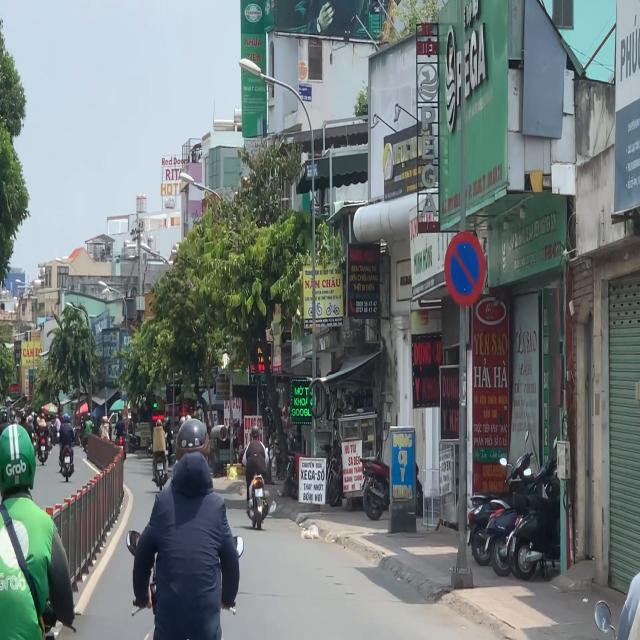Cam do: (446, 227, 486, 307)
